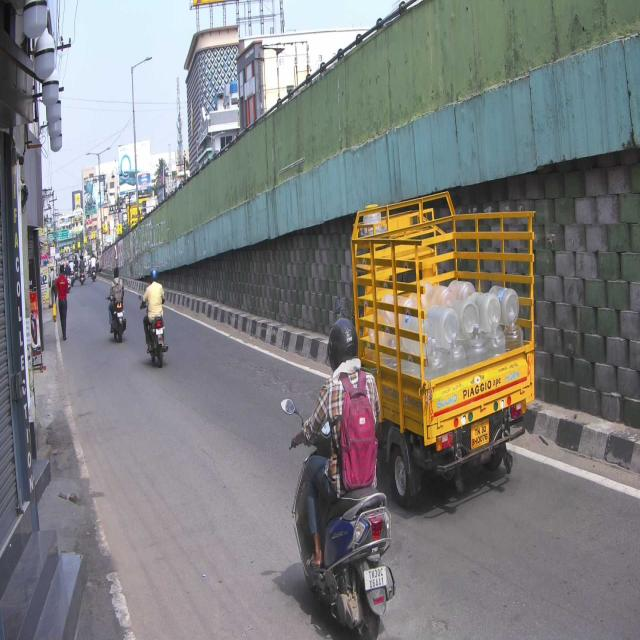single_rider: (282, 313, 398, 640)
